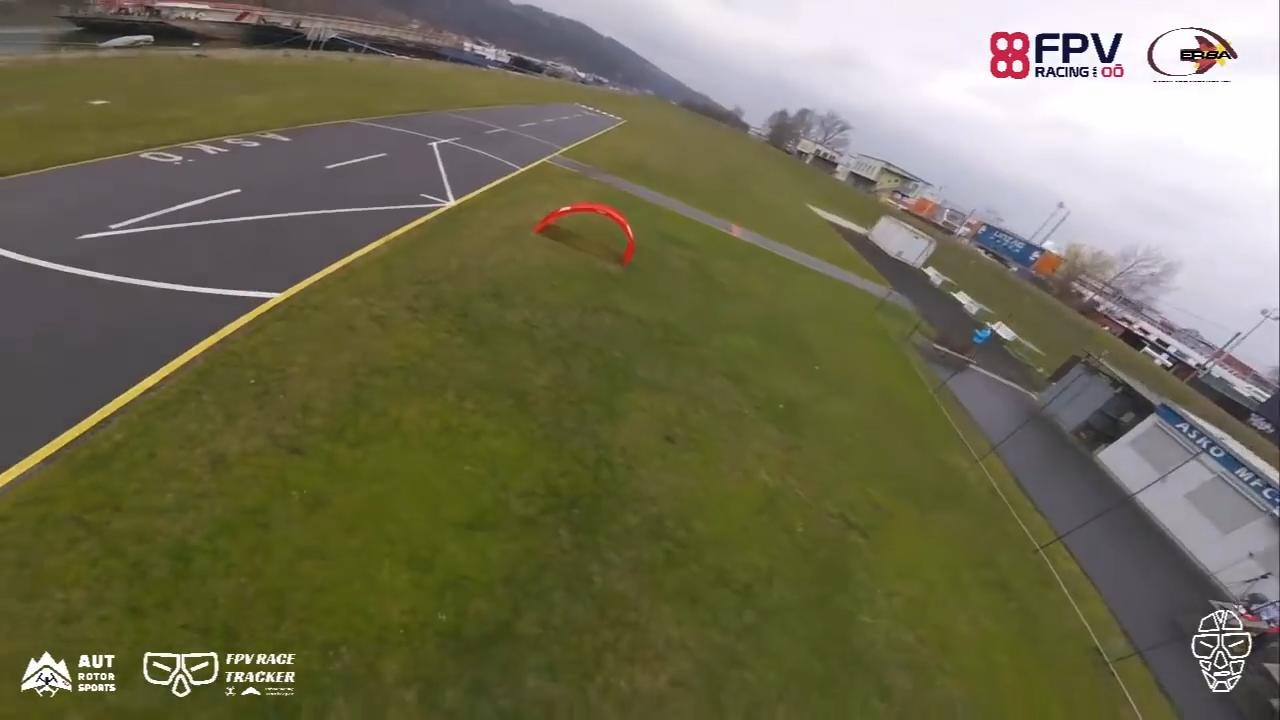gate: (530, 198, 637, 272)
